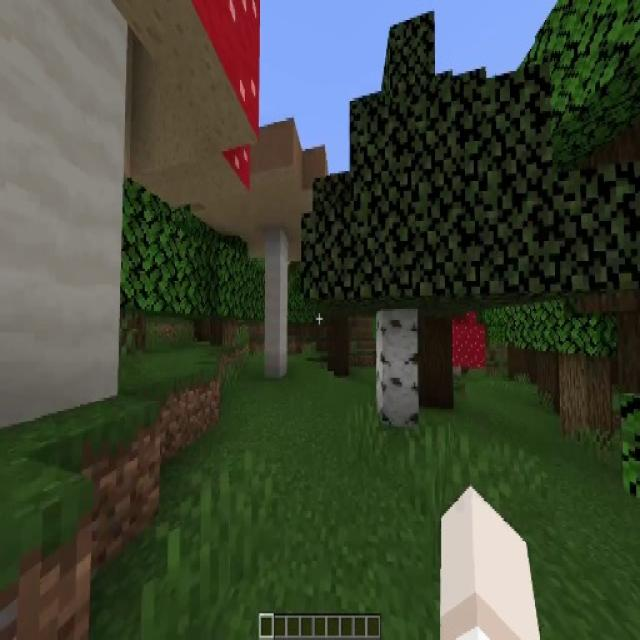birch: (302, 9, 530, 419)
birch_log: (376, 308, 422, 420)
dark_oak: (503, 232, 574, 407)
dark_oak_log: (417, 316, 452, 408), (516, 346, 560, 408), (324, 316, 350, 373)
oak: (188, 225, 260, 350)
oak_log: (558, 349, 612, 438), (212, 315, 234, 349)
